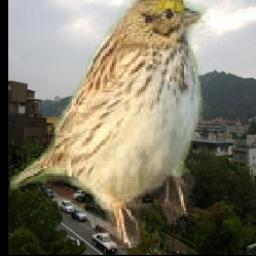Sparrow: (11, 0, 212, 248)
